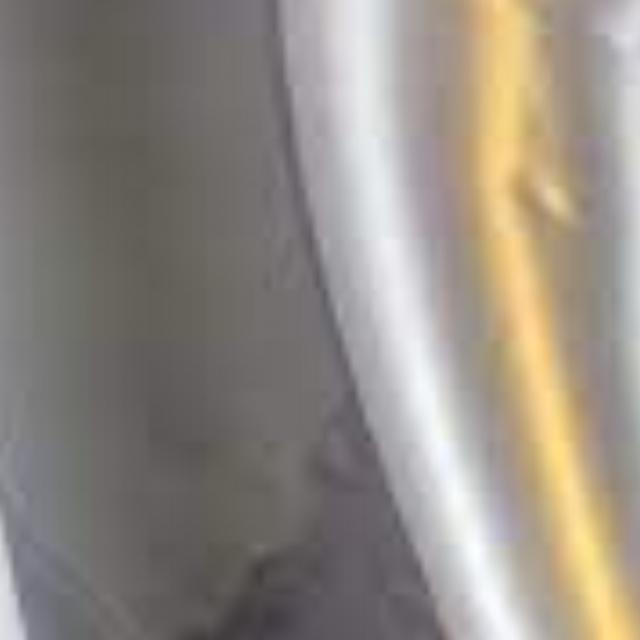dents: (504, 162, 598, 275)
